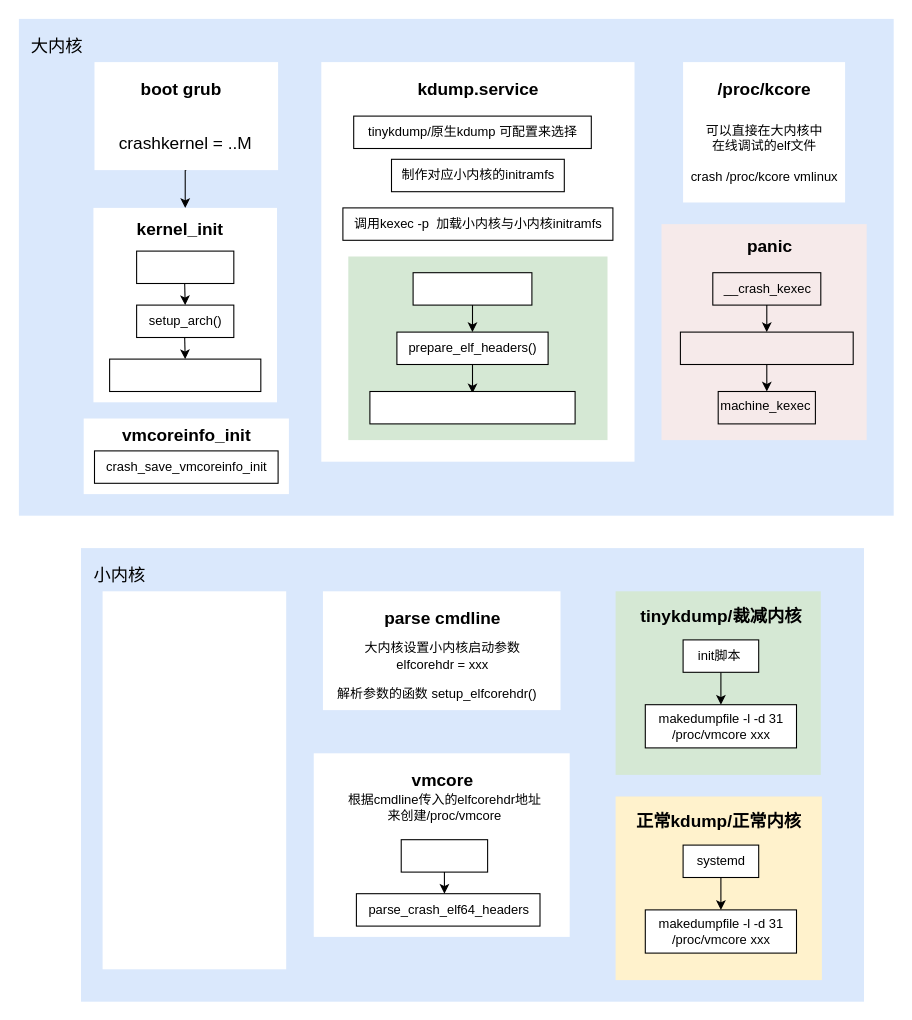
The diagram is 912 pixels wide and 1020 high, and some of its shapes have lost their labels. Here are the shapes that lost their labels. From the top down, the box of each, then its label:
(136, 250, 234, 284): start_kernel()
(412, 272, 532, 305): kexec_file_load()
(679, 331, 853, 364): machine_crash_shutdown
(109, 358, 261, 392): reserve_crashkernel()
(369, 390, 575, 424): crash_prepare_elf64_headers()
(400, 839, 488, 872): vmcore_init
